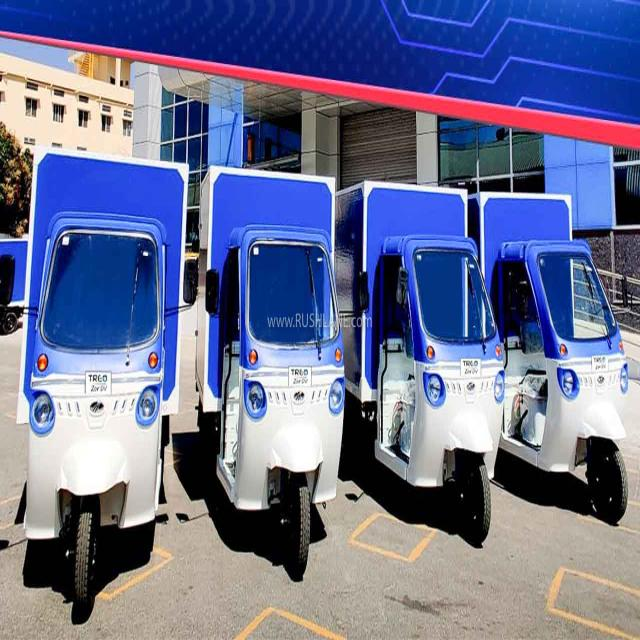autorickshaw: (18, 151, 188, 616), (335, 182, 505, 543), (196, 167, 345, 577), (470, 196, 630, 522)
